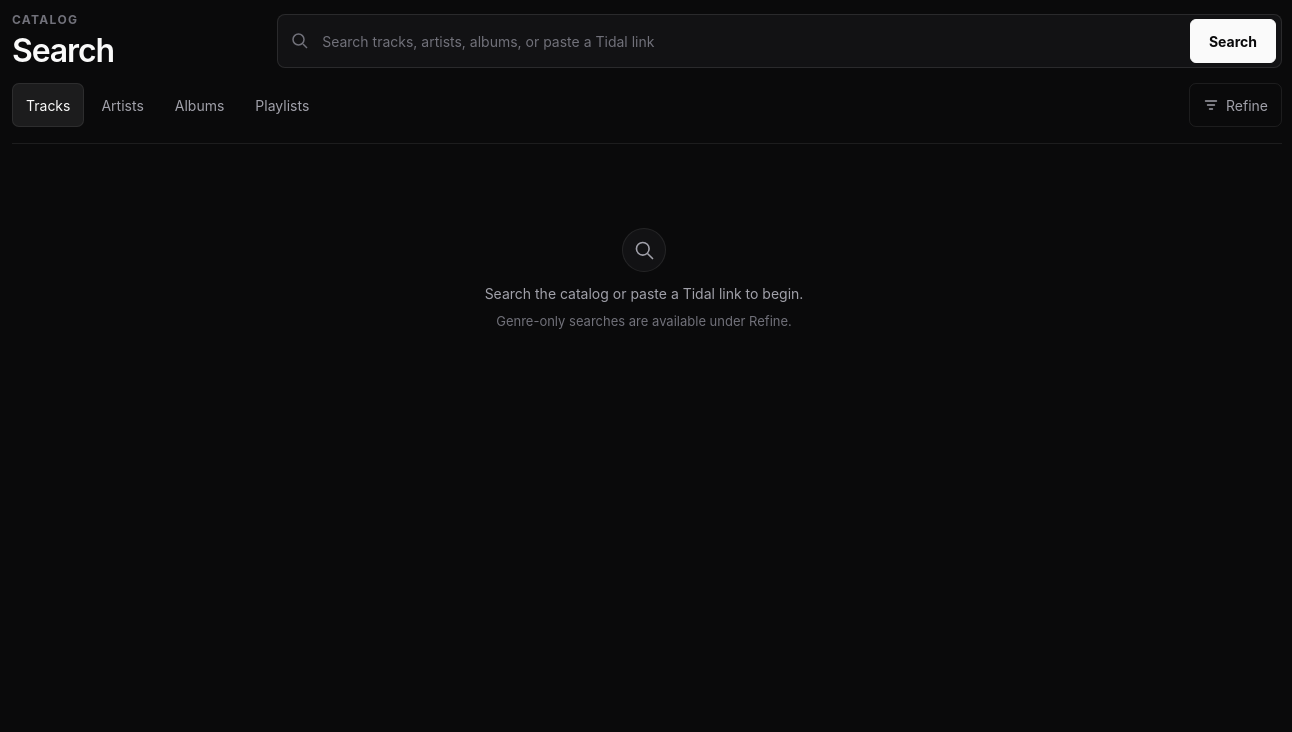
SearchView › ignores an older album detail response after a newer detail completes
Click the button "Albums" at (200, 105), box [161, 83, 238, 127]
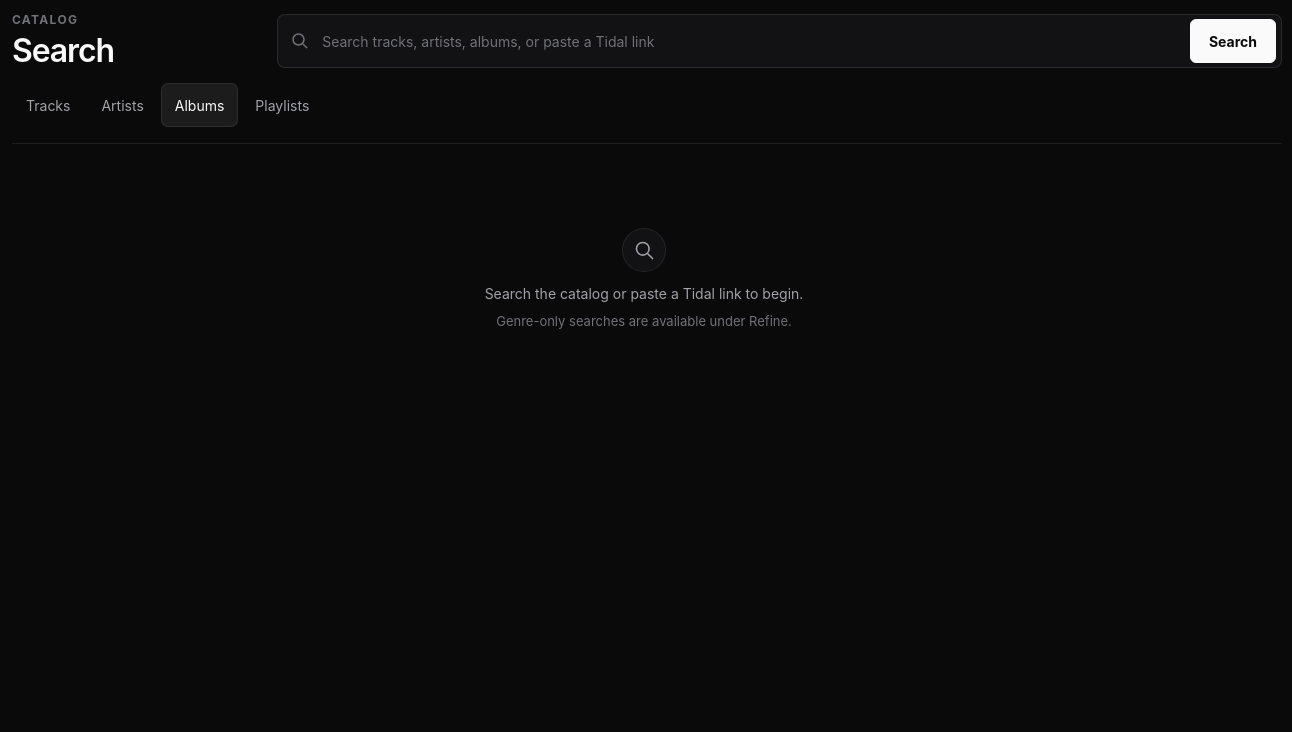
Type "First Album" into the field labelled "Search tracks, artists, albums, or paste a Tidal link" at (750, 41), box [318, 22, 1181, 60]
Click the button "Search" at (1233, 41), box [1190, 19, 1276, 63]
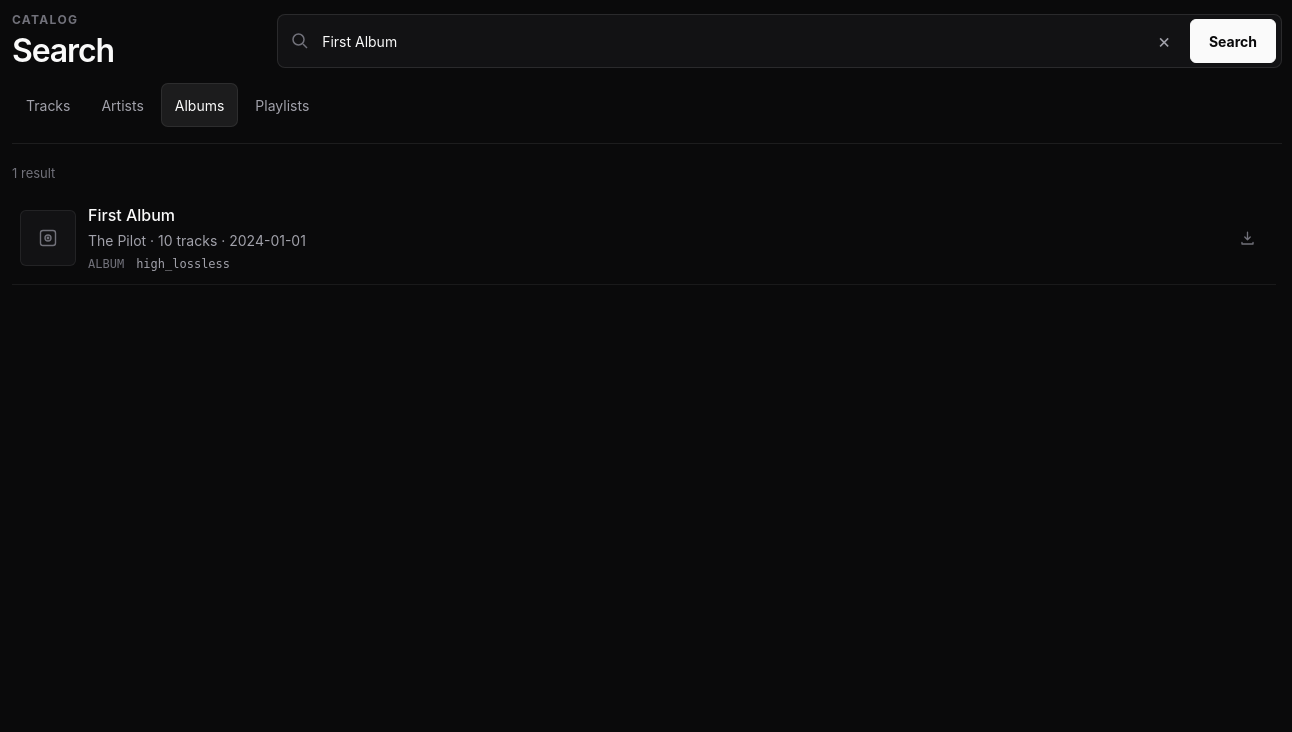
Now the button with aria-label "Open album First Album" is shown
Click the button with aria-label "Open album First Album" at (48, 238), box [20, 204, 1214, 272]
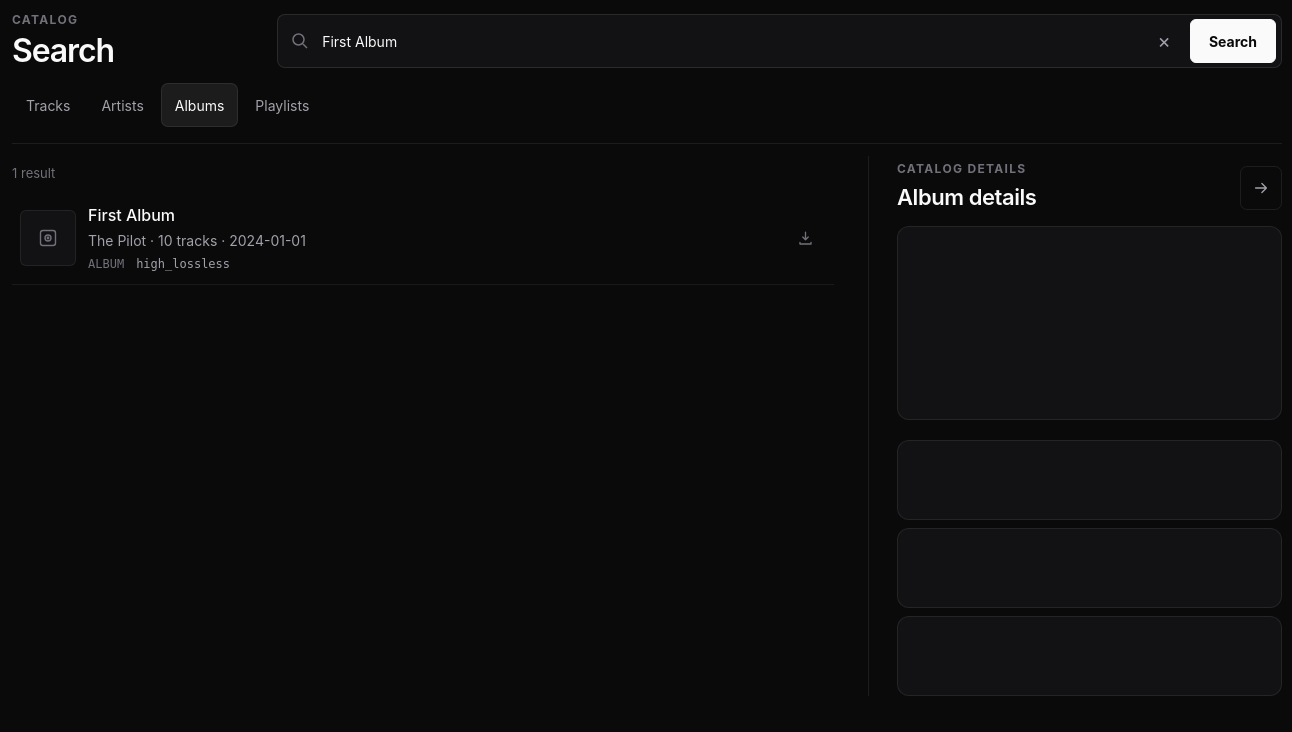
Replace the text in the field named "Search tracks" with "Second Album" at (728, 41), box [318, 22, 1138, 60]
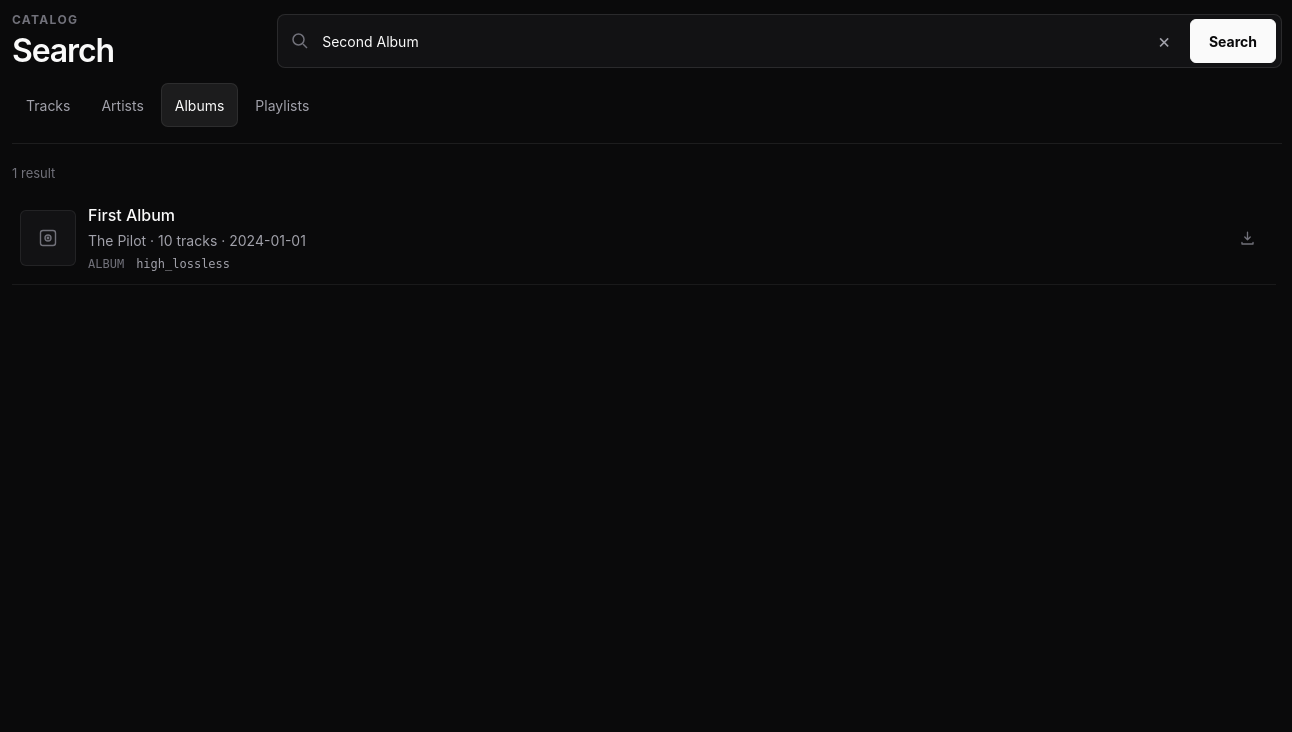
Click the button "Search" at (1233, 41), box [1190, 19, 1276, 63]
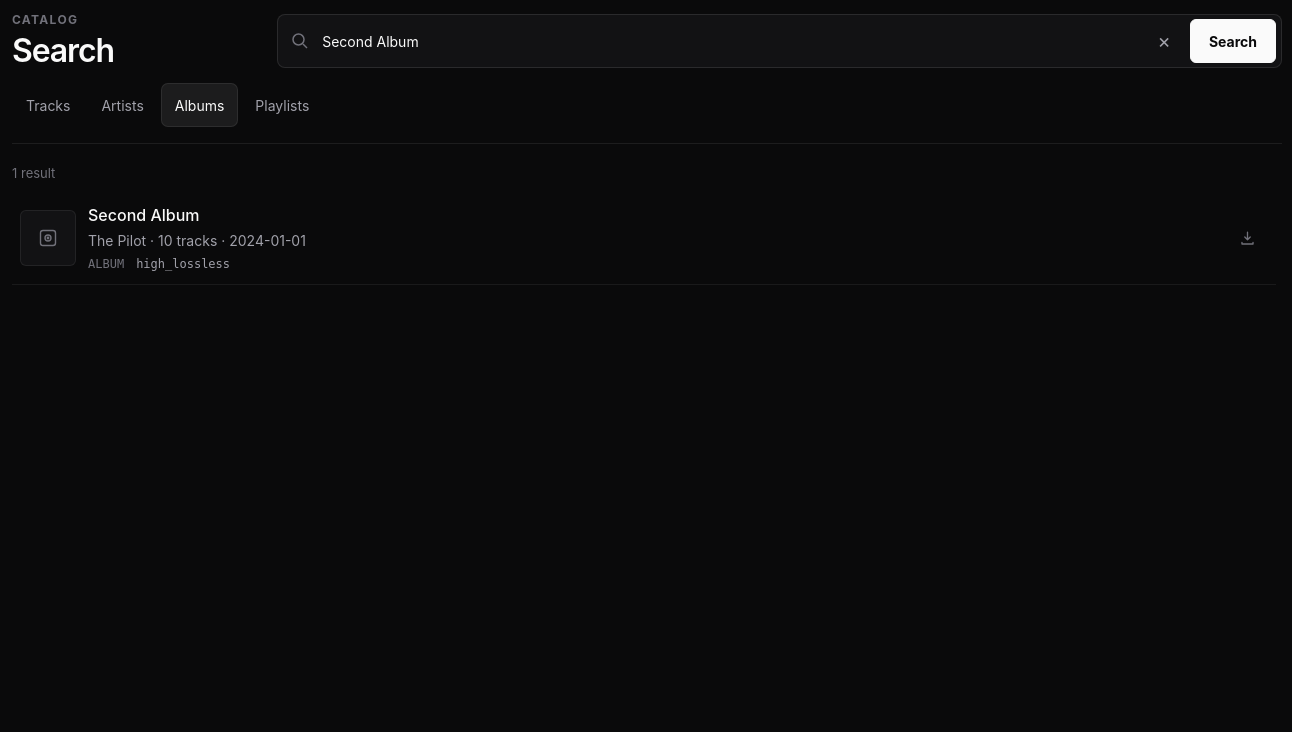
Now the button with aria-label "Open album Second Album" is shown
Click the button with aria-label "Open album Second Album" at (48, 238), box [20, 204, 1214, 272]
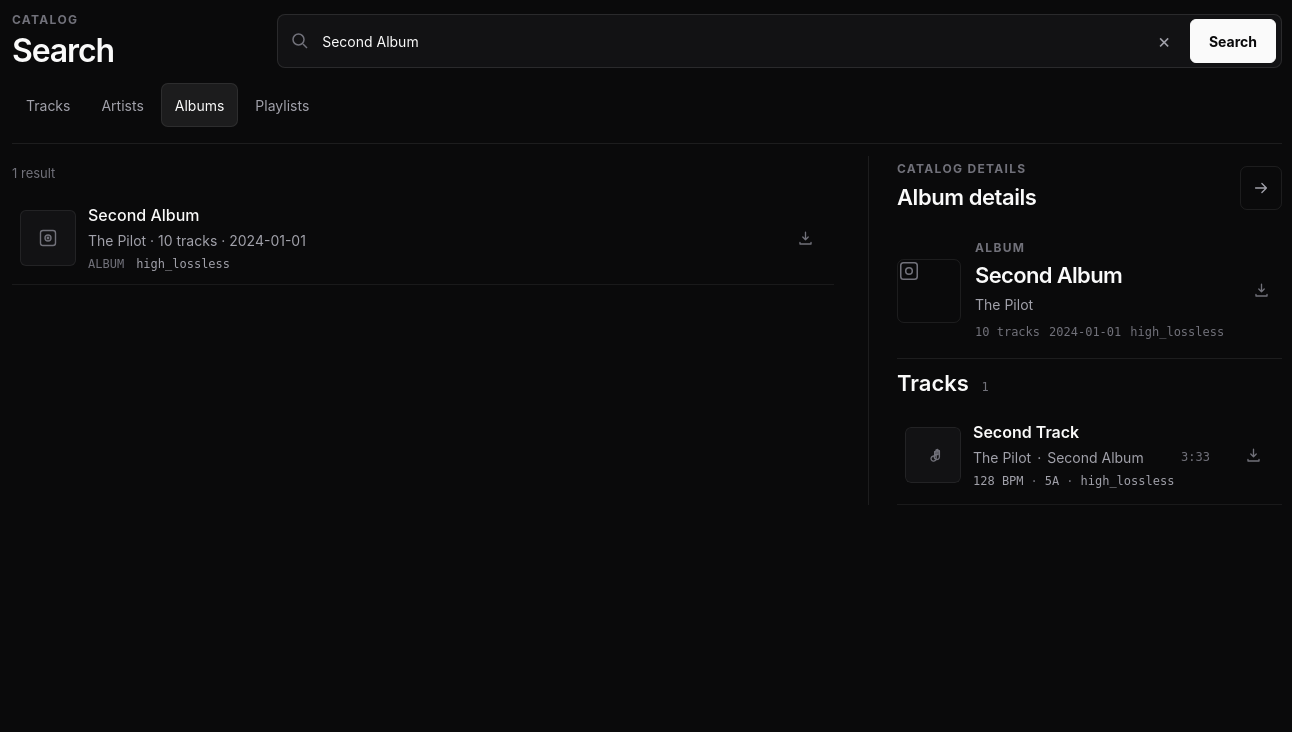
Expected: the button "First Album" is not shown
Now the heading "Second Album" is shown, box [975, 262, 1122, 288]
